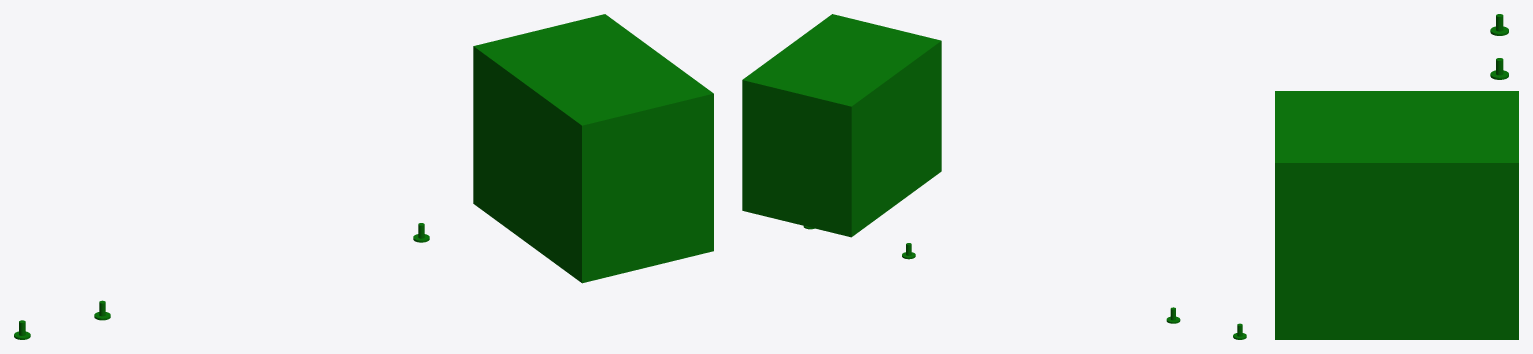
The model's file is Image-1711348150160-2281074290288_42-TB52.fbx.
3 views of the same model, side by side, from view 1: azimuth 30°, elevation 25°; view 2: azimuth 150°, elevation 25°; view 3: azimuth 270°, elevation 25° (orthographic). The views are drawn at different scales.
Parts seen in each view (by area): view 1: BOX 1 of SUBEQUIPMENT /42-TB52/PRIM; view 2: BOX 1 of SUBEQUIPMENT /42-TB52/PRIM; view 3: BOX 1 of SUBEQUIPMENT /42-TB52/PRIM, /42-TB53/N17, /42-TB56/N27.
Part boxes in pixels (bbox=[...]): BOX 1 of SUBEQUIPMENT /42-TB52/PRIM: bbox=[473, 14, 713, 283]; BOX 1 of SUBEQUIPMENT /42-TB52/PRIM: bbox=[742, 14, 941, 237]; BOX 1 of SUBEQUIPMENT /42-TB52/PRIM: bbox=[1275, 91, 1518, 339]; /42-TB53/N17: bbox=[1490, 14, 1508, 35]; /42-TB56/N27: bbox=[1490, 58, 1508, 79].
Size of the model in its own units: 6.36 by 2 by 1.75.
